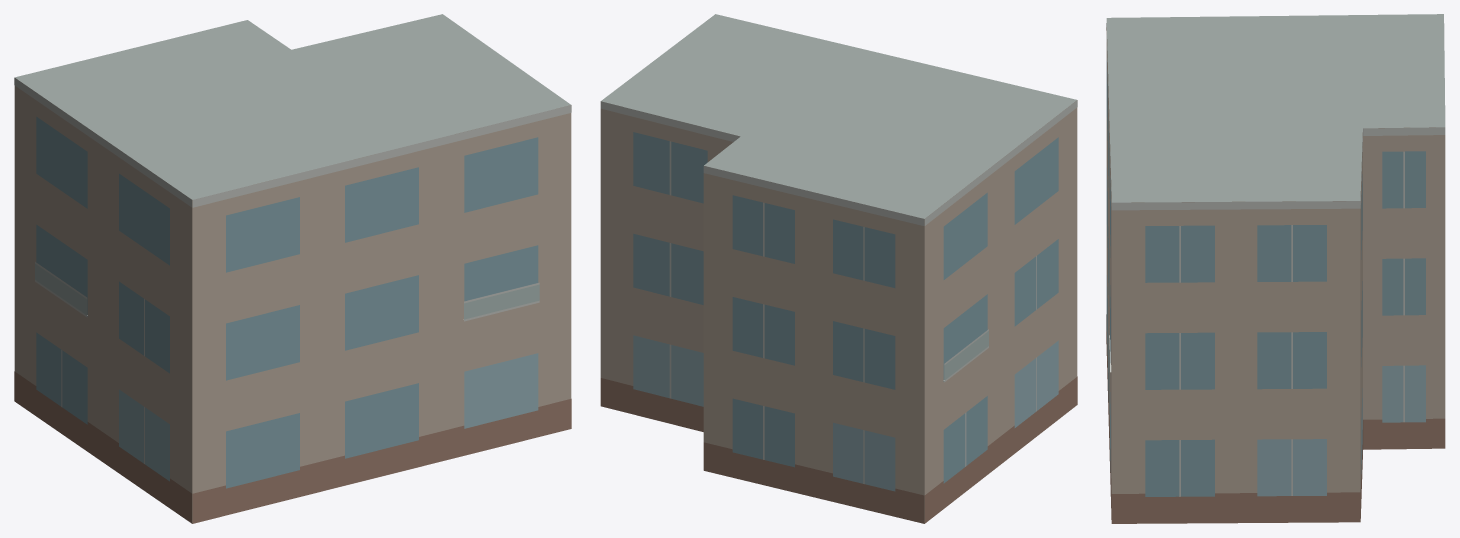
The model's file is survey-upis-32473783.glb.
3 views of the same model, side by side, from view 1: azimuth 30°, elevation 25°; view 2: azimuth 150°, elevation 25°; view 3: azimuth 270°, elevation 25° (orthographic). The views are drawn at different scales.
Visible parts, largest first — view 1: survey-upis-32473783.tmp; view 2: survey-upis-32473783.tmp; view 3: survey-upis-32473783.tmp.
Boxes of the visible parts, bbox=[...] form: survey-upis-32473783.tmp: bbox=[14, 14, 571, 523]; survey-upis-32473783.tmp: bbox=[600, 14, 1077, 523]; survey-upis-32473783.tmp: bbox=[1106, 14, 1445, 523].
Bounding box in the file's own units: 12.73 × 10.1 × 9.67.
